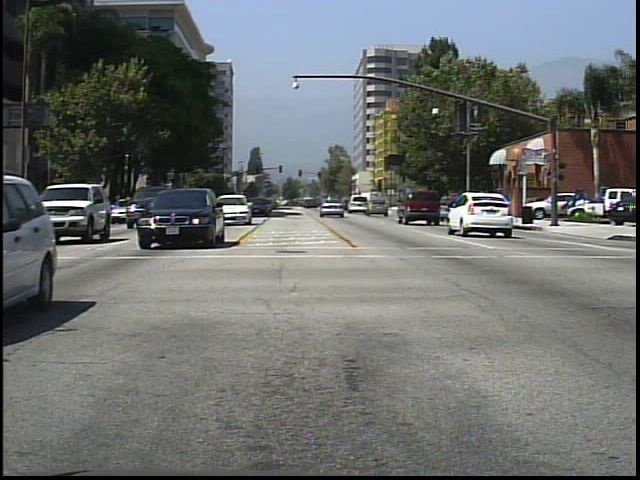person: (437, 192, 456, 224), (473, 188, 492, 218)
